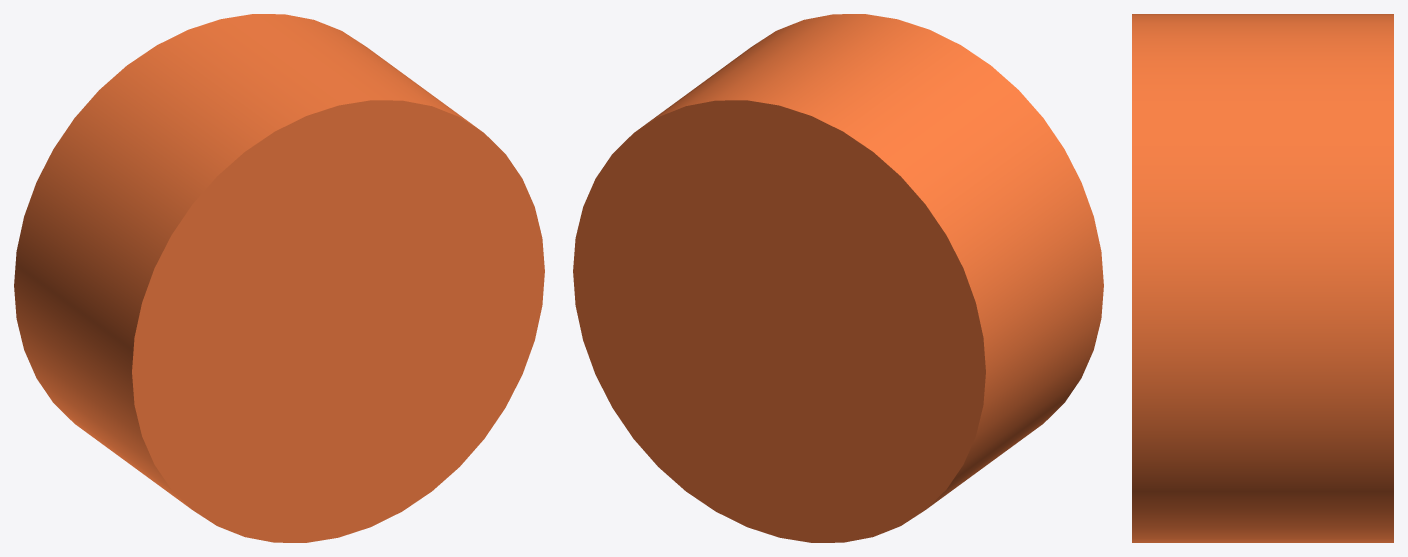
The model's file is feed_pin_ShortingPin.obj.
The picture shows the model from 3 angles, left to right: view 1: azimuth 30°, elevation 25°; view 2: azimuth 150°, elevation 25°; view 3: azimuth 270°, elevation 25°; orthographic projection. The views are drawn at different scales.
Size of the model in its own units: 3.18 by 3.18 by 1.57.
